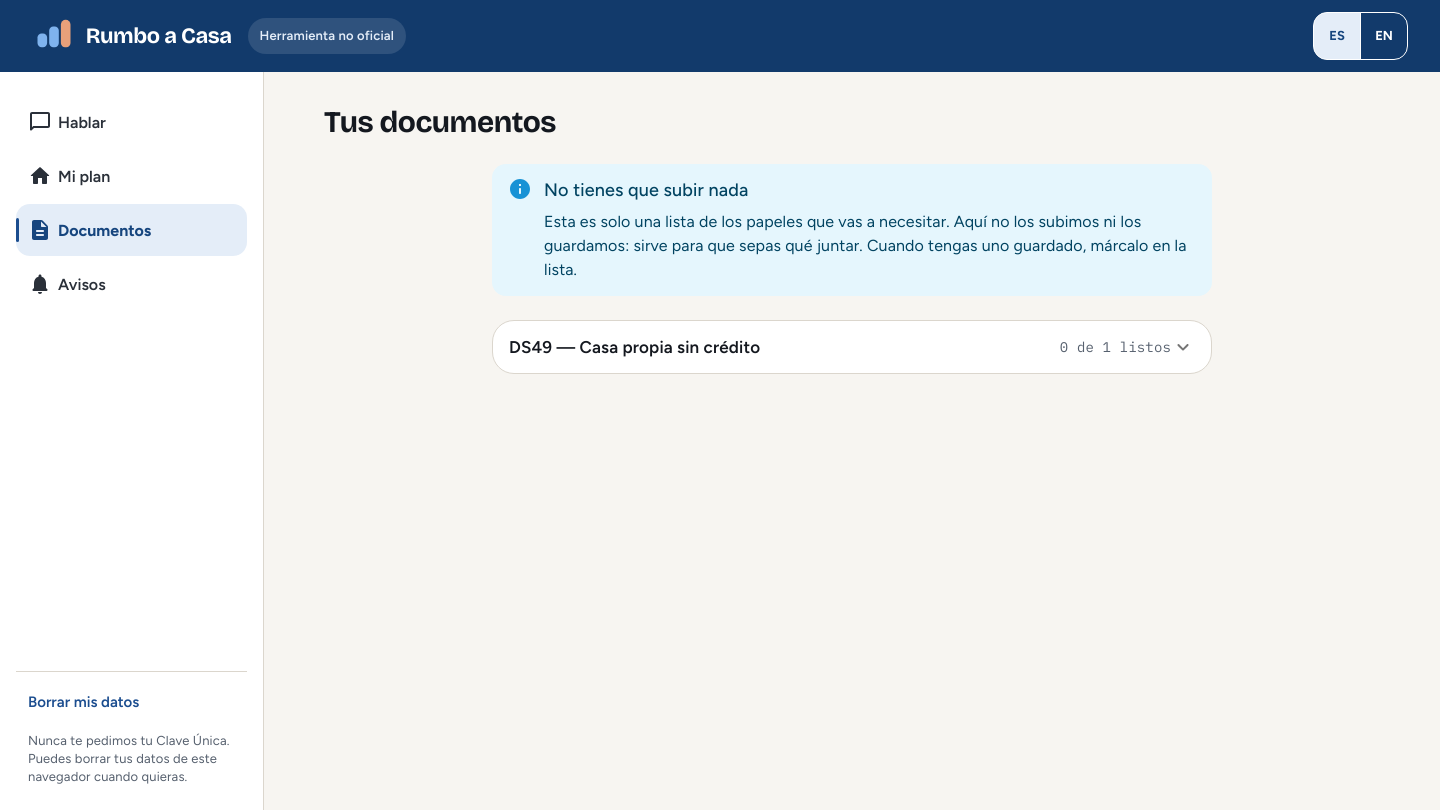
Test: PantallaDocumentos › los checklists empiezan cerrados y se despliegan al tocar el programa
Expected: the checkbox labelled "Tu cédula" is not shown
Click the button "DS49 — Casa propia sin crédito 0 de 1 listos".
click(635, 347)  # box [509,335,1195,359]
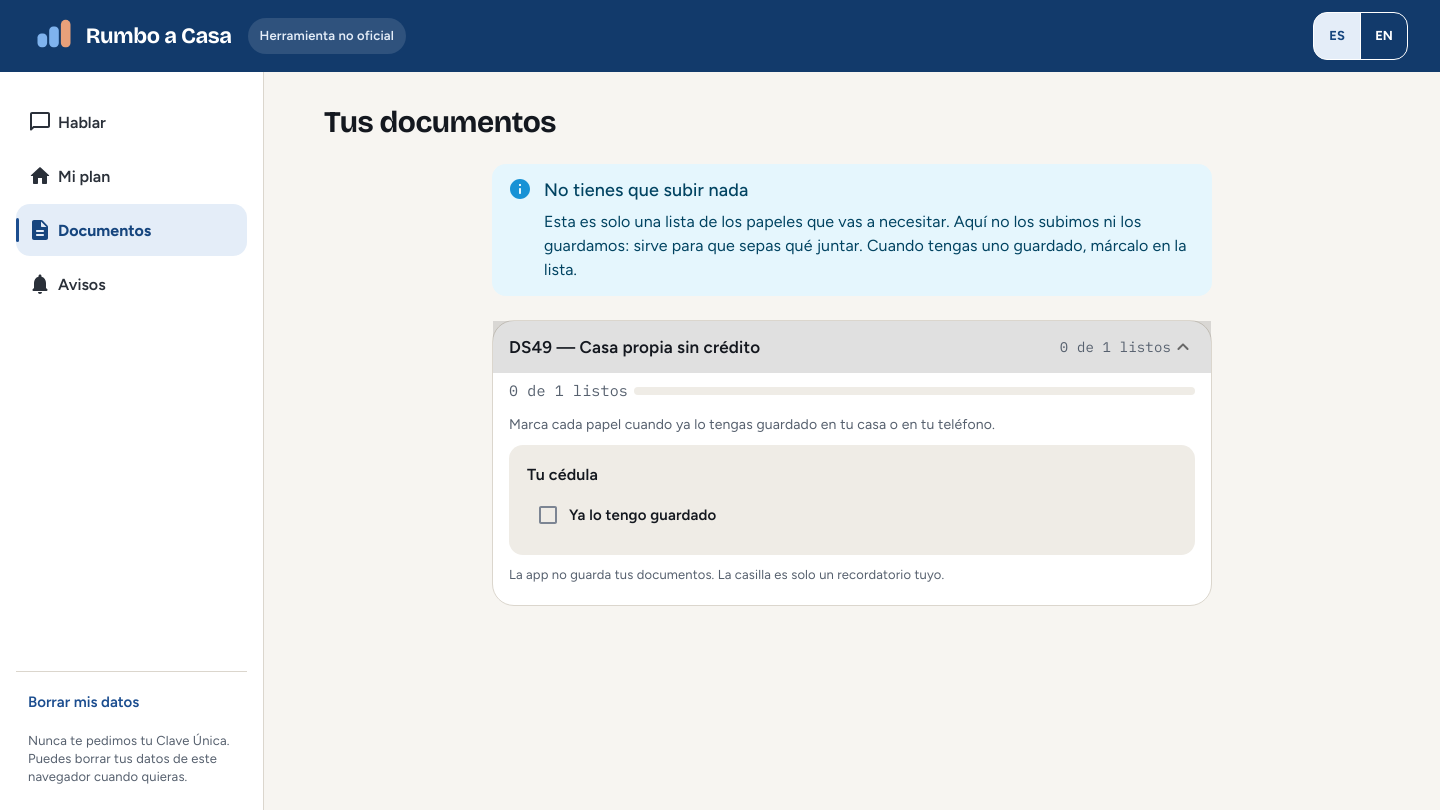
Expected: the button "DS49 — Casa propia sin crédito 0 de 1 listos" is expanded, [493,321,1211,373]
Expected: the checkbox named "Tu cédula" is shown, [536,503,716,527]
